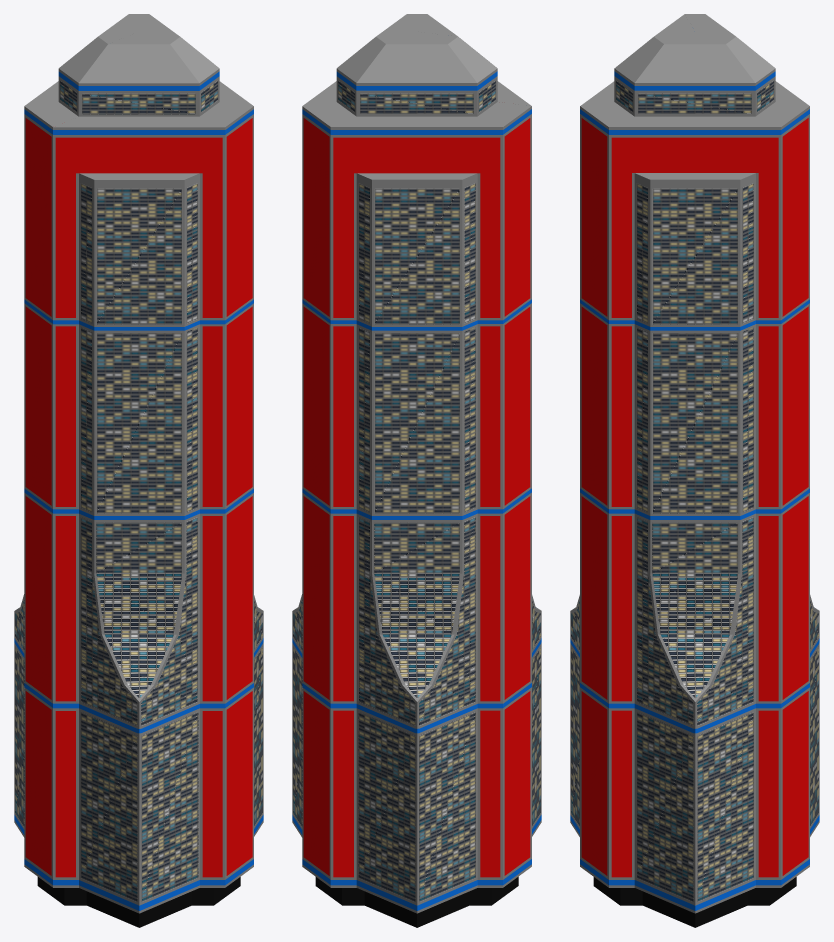
The model's file is SM_Building_TriadStump.fbx.
3 renders of one model, left to right at view 1: azimuth 30°, elevation 25°; view 2: azimuth 150°, elevation 25°; view 3: azimuth 270°, elevation 25°, orthographic.
Parts seen in each view (by area): view 1: Object005; view 2: Object005; view 3: Object005.
Part boxes in pixels (bbox=[...]): Object005: bbox=[14, 14, 263, 927]; Object005: bbox=[292, 14, 541, 927]; Object005: bbox=[570, 14, 819, 927].
Bounding box in the file's own units: 8876 × 31735 × 8517.
Materials: 5 (1 with a texture image).
